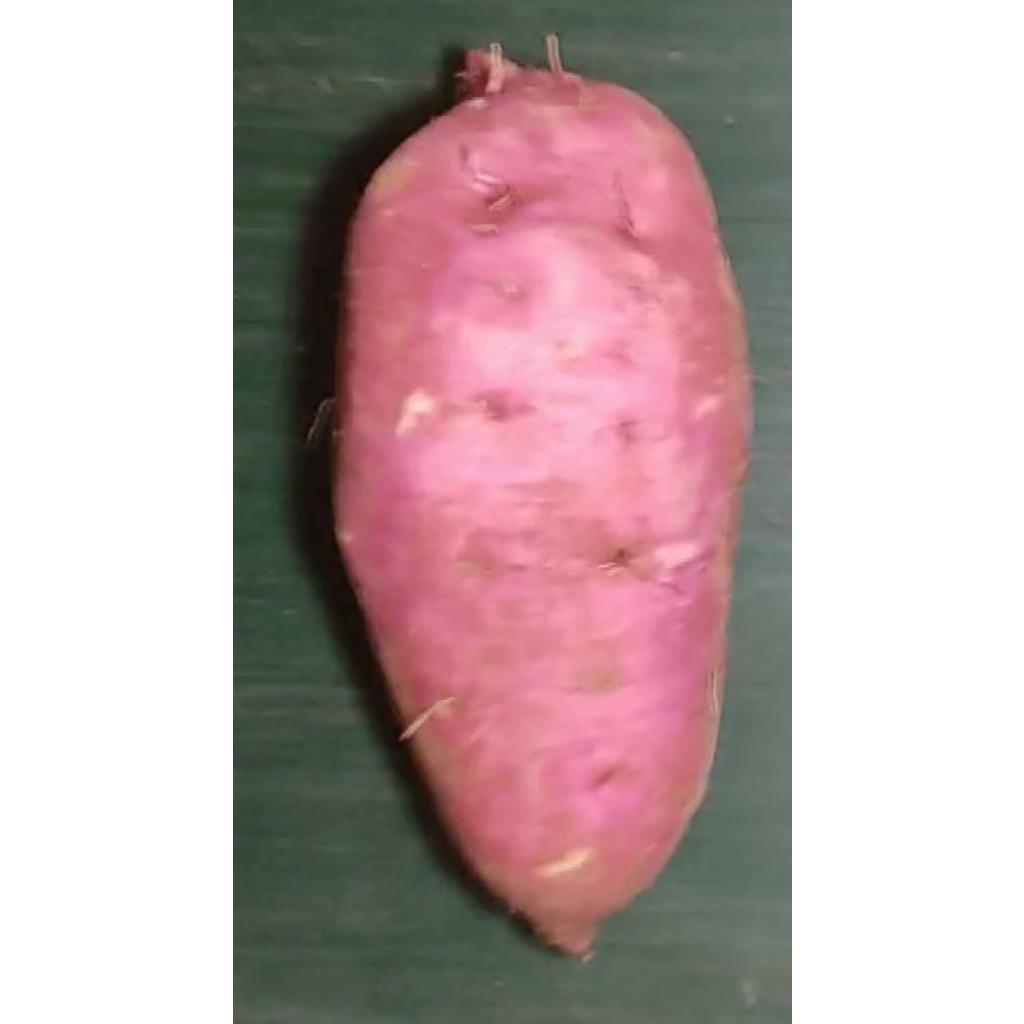Sweet Potato: (327, 35, 755, 962)
